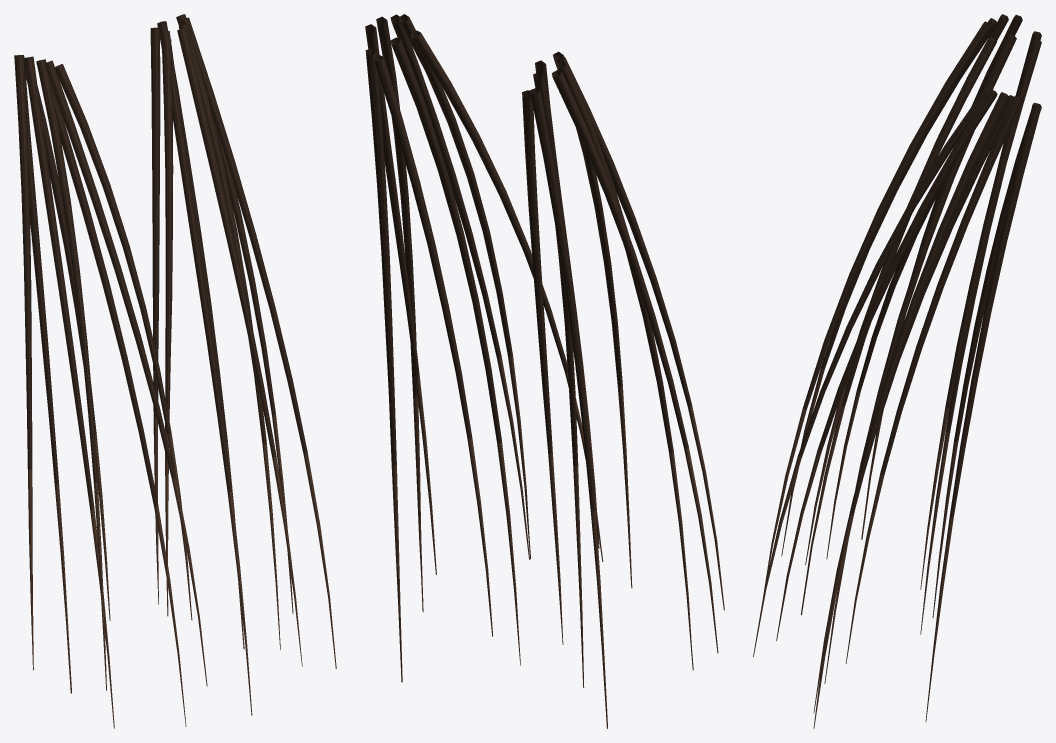
Rendered from vincentt-nasal-hair-absurdly-long.glb.
3 views of the same model, side by side, from view 1: azimuth 30°, elevation 25°; view 2: azimuth 150°, elevation 25°; view 3: azimuth 270°, elevation 25° (orthographic). The views are drawn at different scales.
Parts seen in each view (by area): view 1: nhl_sty_hair, nhl_sty_tips; view 2: nhl_sty_hair, nhl_sty_tips; view 3: nhl_sty_hair, nhl_sty_tips.
Boxes of the visible parts, <box> form: nhl_sty_hair: <box>14,14,307,509</box>; nhl_sty_tips: <box>28,414,336,728</box>; nhl_sty_hair: <box>365,14,691,511</box>; nhl_sty_tips: <box>391,355,724,728</box>; nhl_sty_hair: <box>798,14,1041,517</box>; nhl_sty_tips: <box>753,367,958,728</box>.
Size of what is drawn, in the model's own units: 0.0312 by 0.0664 by 0.0274.
Materials: 2 (2 with a texture image).
